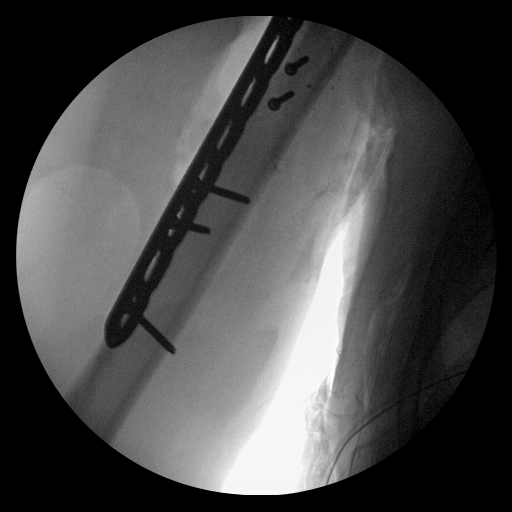implant: (105, 19, 299, 359)
